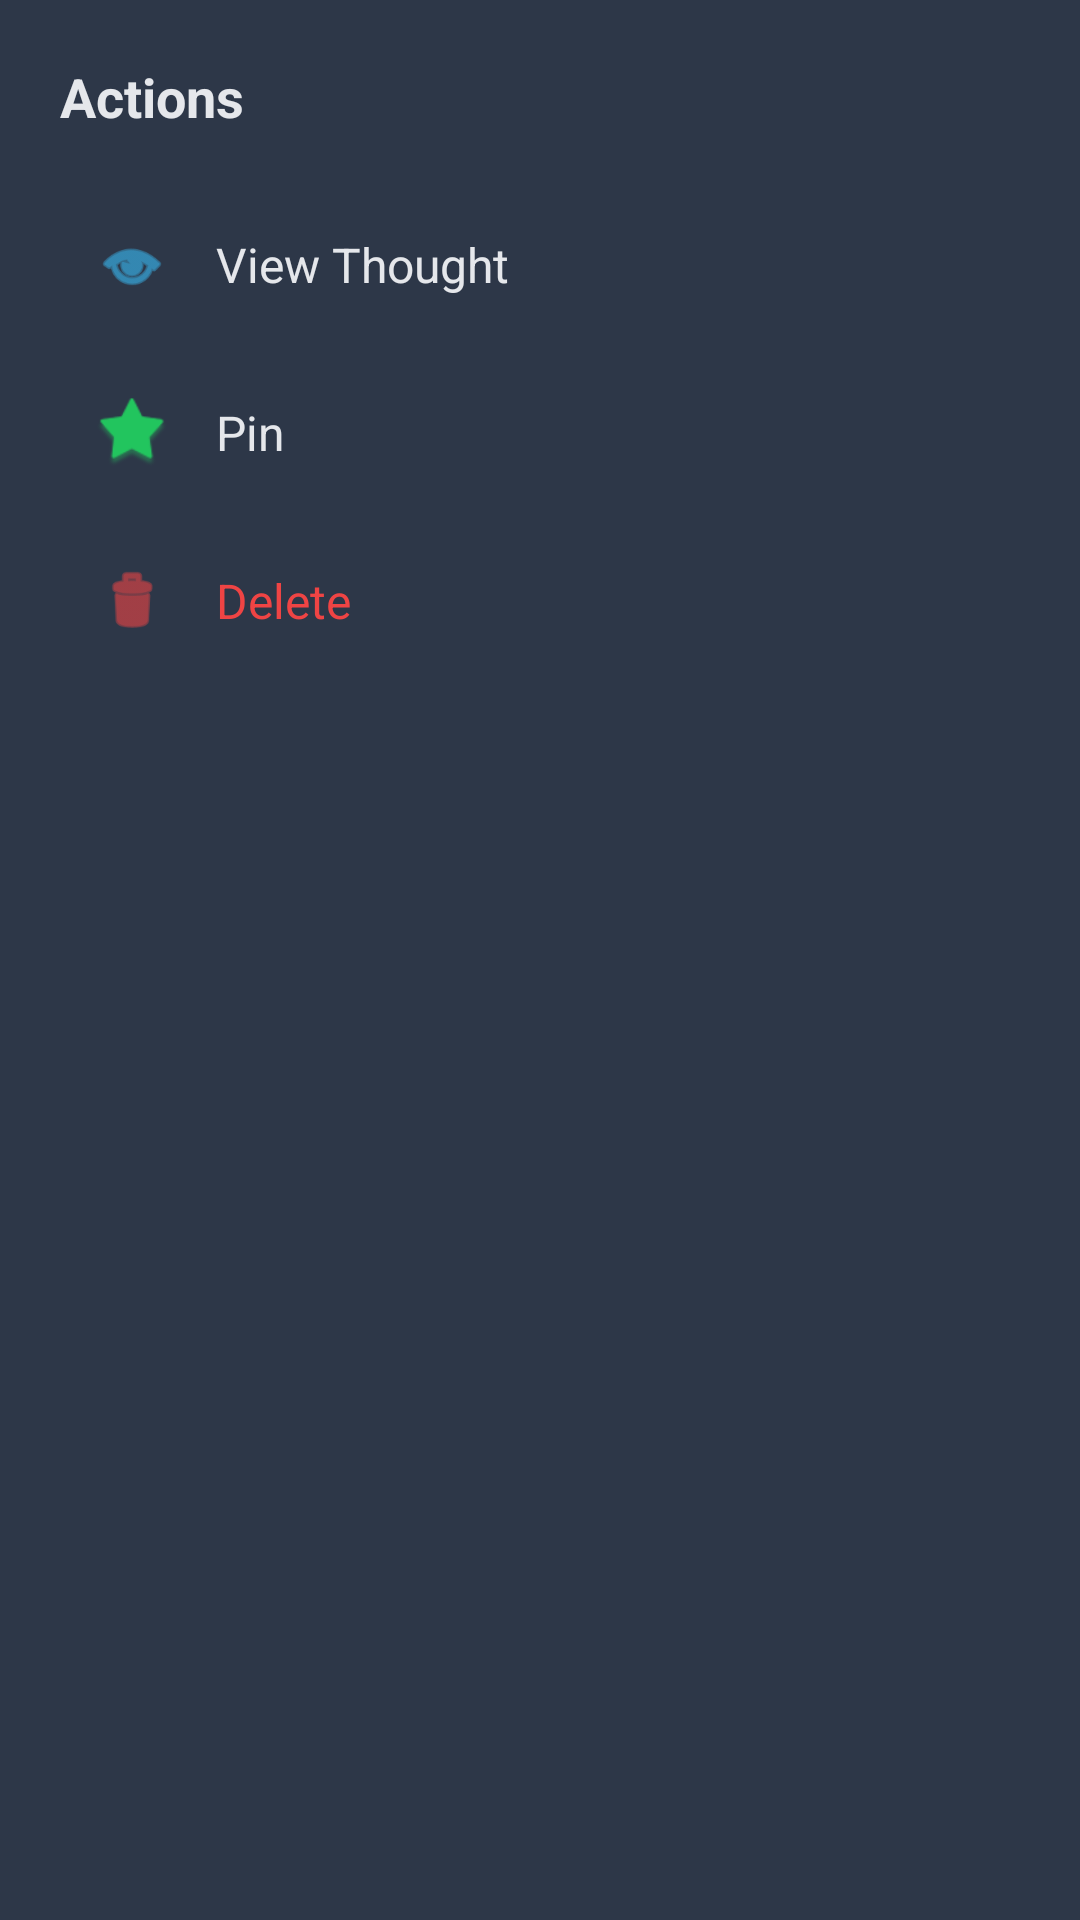

Where icons sit on this 1080px×1920px app screen, as bbox=[x1, y1, x2, y2]:
star on: bbox=[100, 398, 164, 462]
